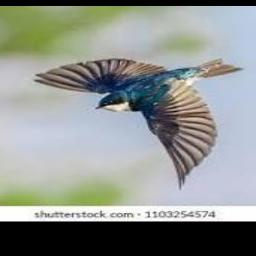Swallow: (33, 56, 244, 190)
